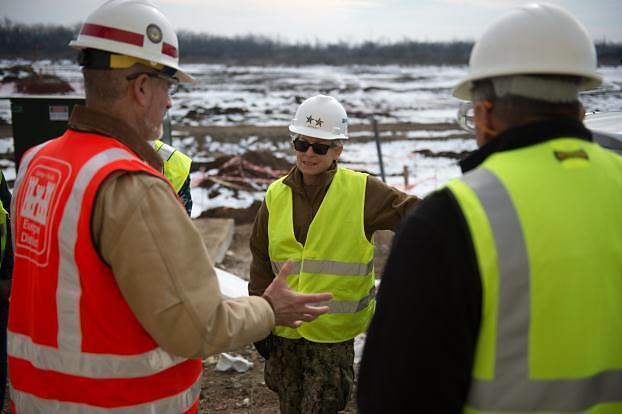vest: (4, 135, 207, 402), (428, 142, 621, 404), (254, 164, 371, 352)
